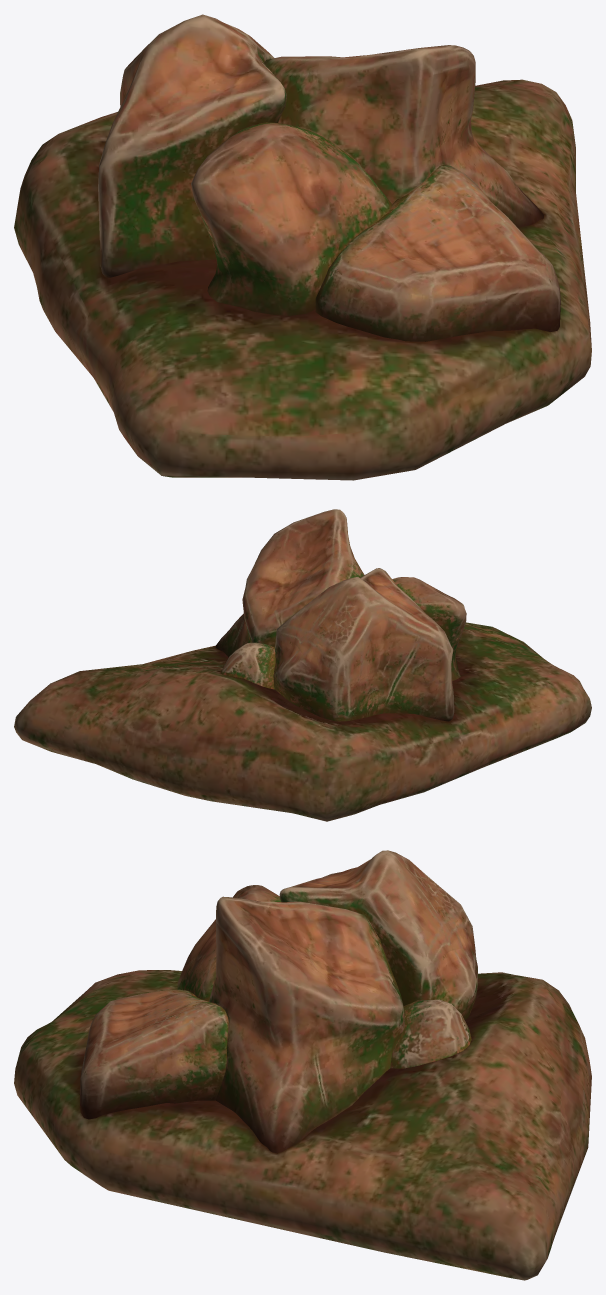
The model's file is rocks_red_cluster.glb.
The picture shows the model from 3 angles, top to bottom: view 1: azimuth 30°, elevation 25°; view 2: azimuth 150°, elevation 25°; view 3: azimuth 270°, elevation 25°; orthographic projection. The views are drawn at different scales.
Visible parts, largest first — view 1: Object_4, Object_8, Object_6, Object_7, Object_5; view 2: Object_4, Object_8, Object_5, Object_7, Object_9; view 3: Object_4, Object_5, Object_6, Object_8, Object_9, Object_7.
Part boxes in pixels (x1=…): Object_4: x1=14, y1=79, x2=591, y2=480; Object_8: x1=98, y1=14, x2=286, y2=277; Object_6: x1=315, y1=165, x2=560, y2=341; Object_7: x1=191, y1=122, x2=391, y2=315; Object_5: x1=264, y1=45, x2=543, y2=227; Object_4: x1=14, y1=622, x2=591, y2=821; Object_8: x1=273, y1=568, x2=454, y2=721; Object_5: x1=216, y1=509, x2=364, y2=657; Object_7: x1=392, y1=577, x2=466, y2=680; Object_9: x1=220, y1=642, x2=275, y2=689; Object_4: x1=14, y1=970, x2=591, y2=1280; Object_5: x1=209, y1=896, x2=405, y2=1152; Object_6: x1=80, y1=989, x2=228, y2=1119; Object_8: x1=279, y1=850, x2=477, y2=1019; Object_9: x1=390, y1=999, x2=471, y2=1068; Object_7: x1=177, y1=885, x2=280, y2=1001.
Bounding box in the file's own units: 3.27 × 1.48 × 2.95.
6 materials, 6 textured.
